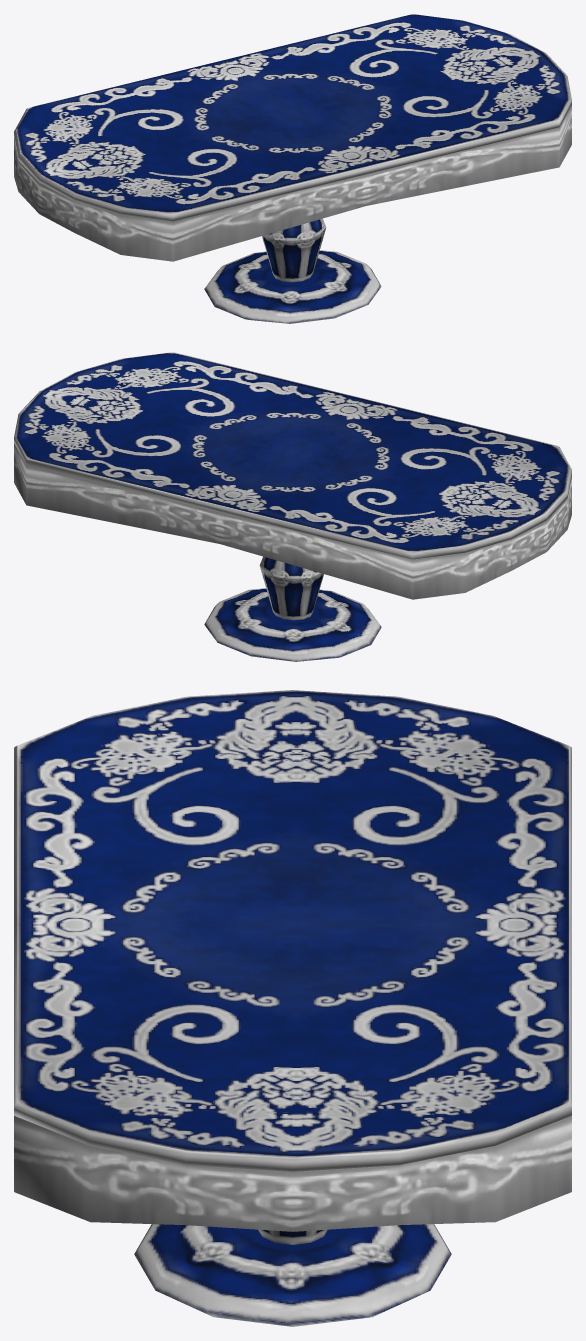
Rendered from EmpressDiningTable_HD.fbx.
The picture shows the model from 3 angles, top to bottom: view 1: azimuth 30°, elevation 25°; view 2: azimuth 150°, elevation 25°; view 3: azimuth 270°, elevation 25°; orthographic projection. The views are drawn at different scales.
Visible parts, largest first — view 1: EmpressDiningTable; view 2: EmpressDiningTable; view 3: EmpressDiningTable.
Boxes of the visible parts, x1,y1,x2,y2 form: EmpressDiningTable: [14, 14, 571, 323]; EmpressDiningTable: [14, 352, 571, 661]; EmpressDiningTable: [14, 690, 571, 1326].
Size of the model in its own units: 1.84 by 0.6027 by 0.9222.
